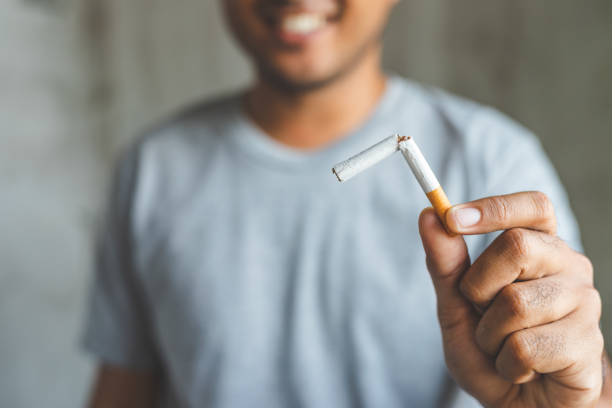cigarette: (397, 136, 458, 238), (331, 133, 403, 184)
